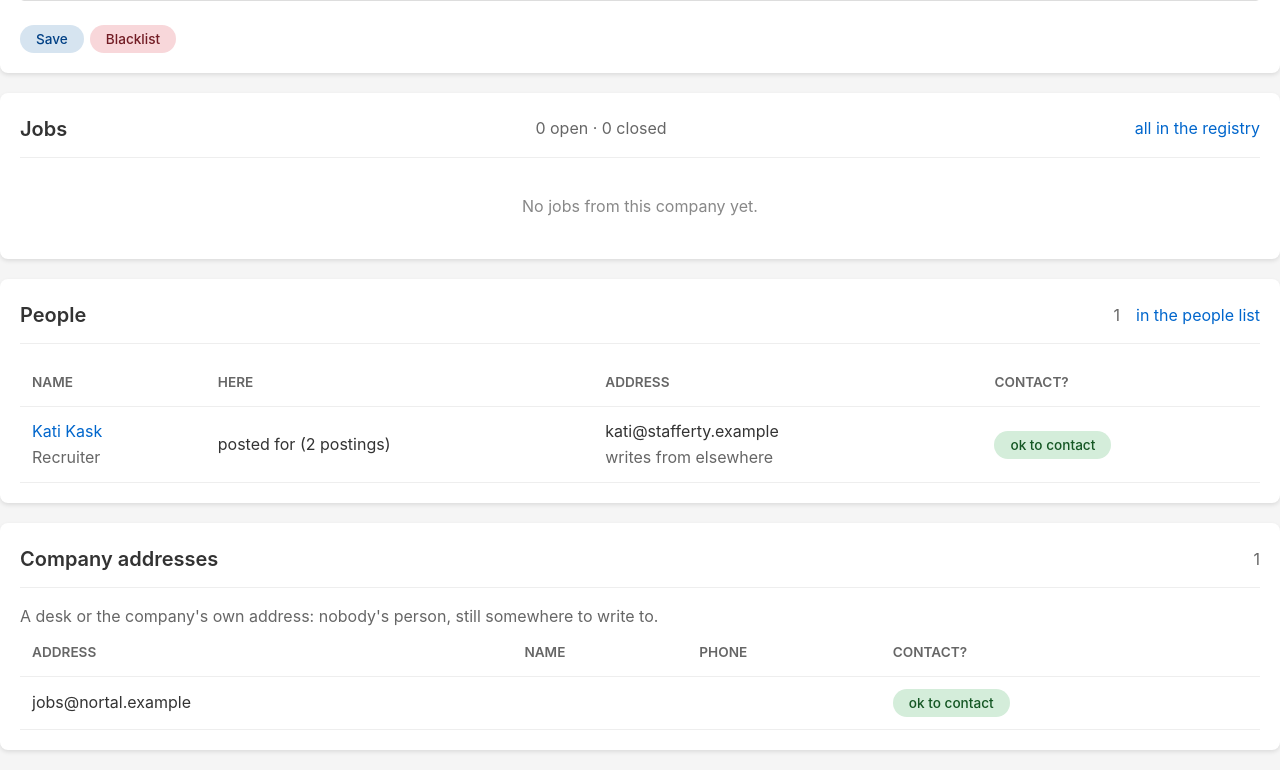
Test case: MasiCompanyDetail › lists the company's own addresses apart from its people, and flags one not to be written to
(page scrolled)
Check: the text "jobs@nortal.example" is shown, box [20,676,512,730]
Step 1. Click the button with aria-label "Do not contact jobs@nortal.example" → (951, 703), box [893,689,1010,717]
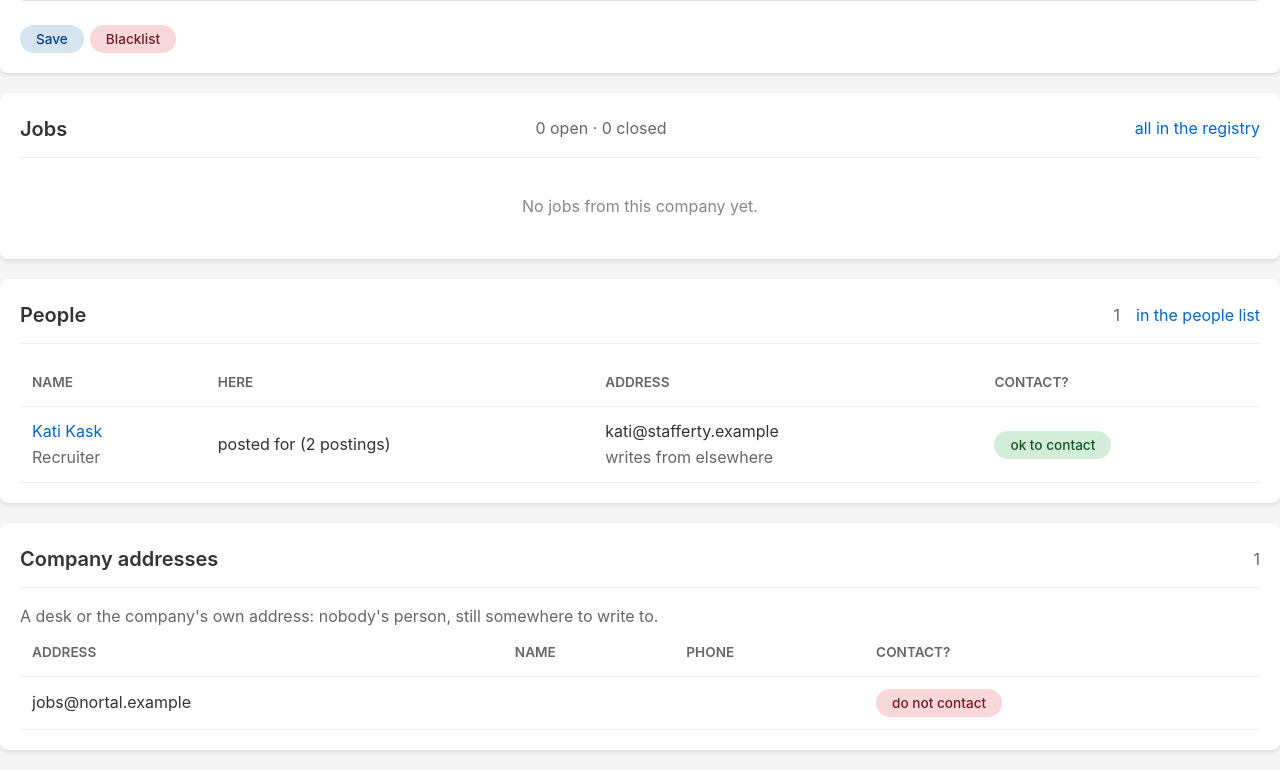
Check: the button with aria-label "Allow contact at jobs@nortal.example" is shown, box [876,689,1002,717]
